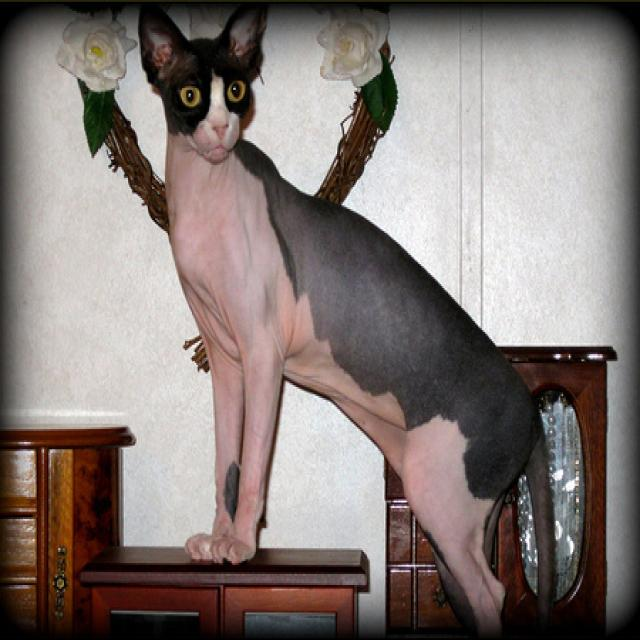Sphynx: (135, 2, 556, 640)
